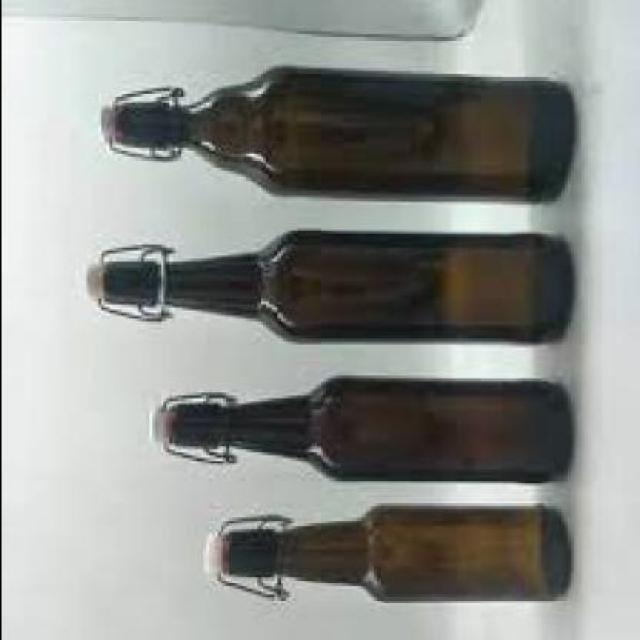GLASS: (114, 68, 569, 202), (102, 233, 568, 347), (168, 381, 566, 484), (219, 509, 566, 606)
PLASTIC: (142, 407, 166, 450), (196, 538, 216, 582), (80, 264, 97, 308), (94, 108, 108, 148)
